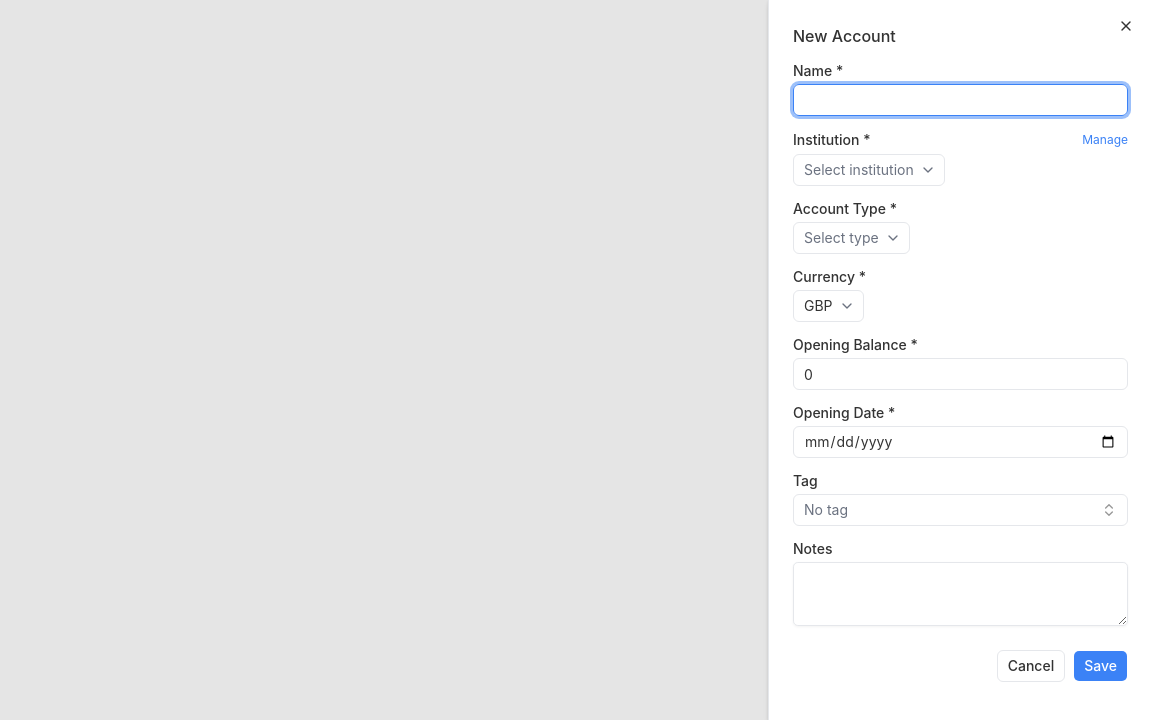
AccountFormSheet — create mode › shows validation errors when submitting an empty form
The image size is (1152, 720).
Click the button "Save": (1101, 666) [1073,650,1128,682]
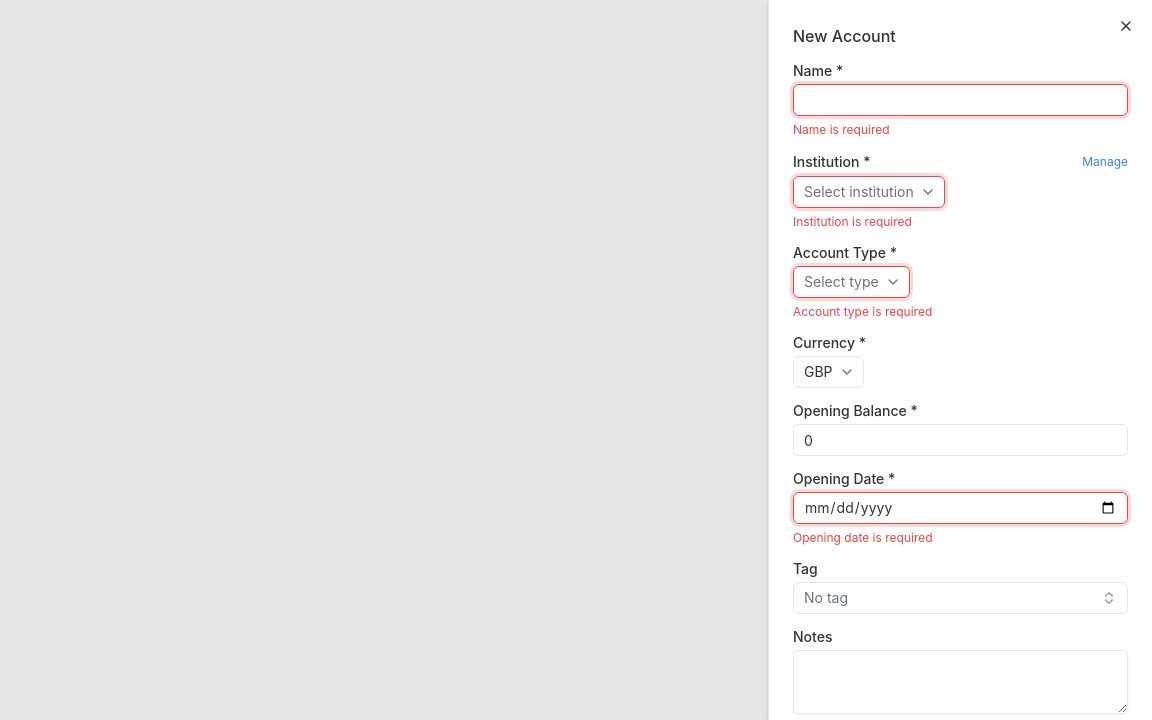
Expected: the text "Name is required" is shown, [793,122,890,137]
Expected: the text "Institution is required" is shown, [793,214,912,229]
Expected: the text "Account type is required" is shown, [793,304,932,319]
